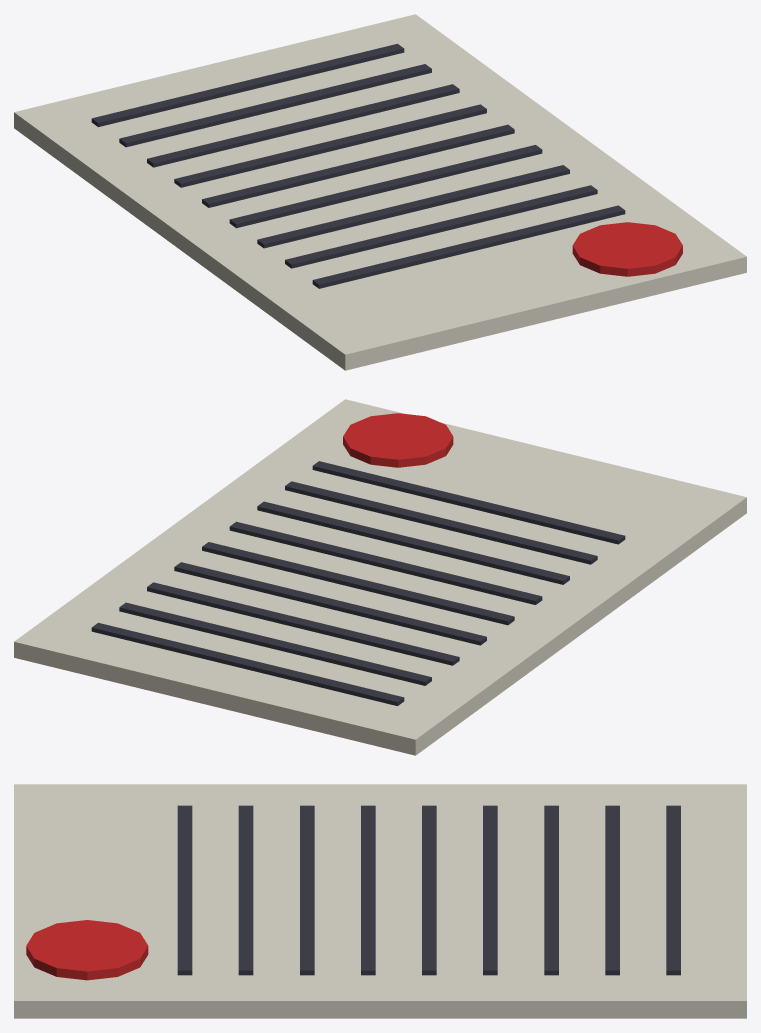
Rendered from tour_contract.glb.
The picture shows the model from 3 angles, top to bottom: view 1: azimuth 30°, elevation 25°; view 2: azimuth 150°, elevation 25°; view 3: azimuth 270°, elevation 25°; orthographic projection. The views are drawn at different scales.
Parts seen in each view (by area): view 1: sheet_pawn_story_paper, line_pawn_story_ink (×9), seal_contract_seal; view 2: sheet_pawn_story_paper, line_pawn_story_ink (×9), seal_contract_seal; view 3: sheet_pawn_story_paper, line_pawn_story_ink (×9), seal_contract_seal.
Part boxes in pixels (x1,y1,x2,y2): sheet_pawn_story_paper: [14, 14, 746, 370]; line_pawn_story_ink (×9): [91, 43, 625, 288]; seal_contract_seal: [572, 222, 682, 276]; sheet_pawn_story_paper: [14, 399, 746, 755]; line_pawn_story_ink (×9): [91, 461, 625, 705]; seal_contract_seal: [343, 413, 453, 467]; sheet_pawn_story_paper: [14, 784, 746, 1018]; line_pawn_story_ink (×9): [177, 805, 680, 975]; seal_contract_seal: [26, 920, 148, 980].
Bounding box in the file's own units: 0.21 × 0.012 × 0.3.
